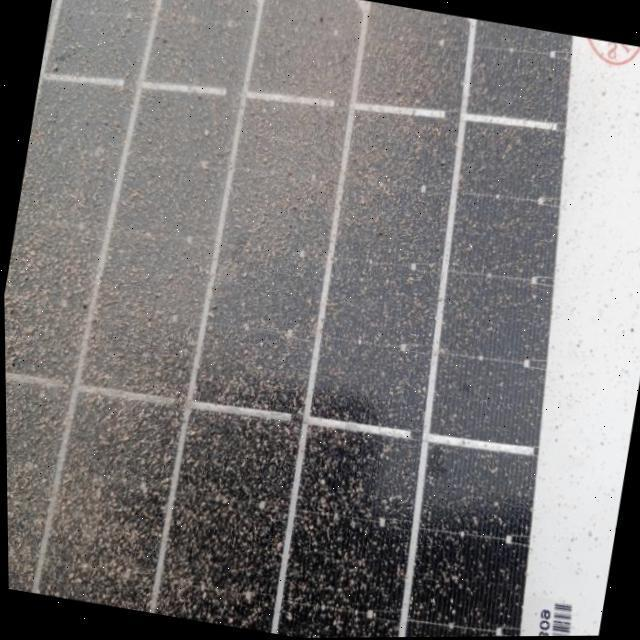Anomaly Solar Panel: (0, 0, 640, 640)
Surface Contaminant: (3, 0, 609, 638)
